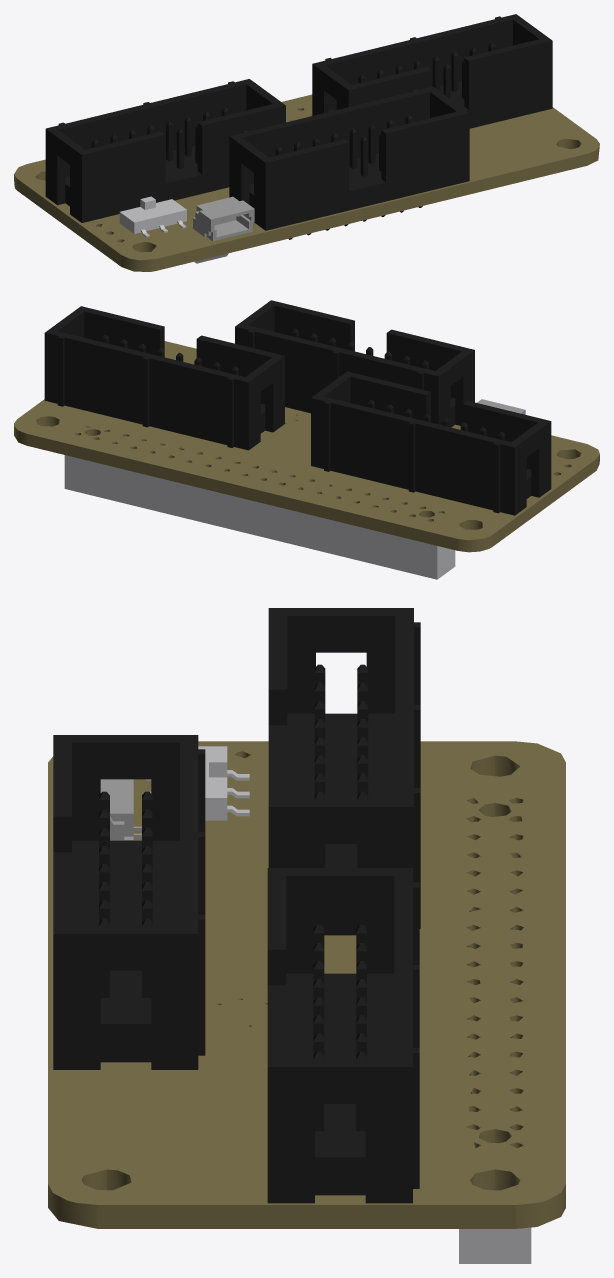
Rendered from ada-6358.glb.
3 renders of one model, top to bottom at view 1: azimuth 30°, elevation 25°; view 2: azimuth 150°, elevation 25°; view 3: azimuth 270°, elevation 25°, orthographic. The views are drawn at different scales.
Visible parts, largest first — view 1: 0_0_0_0, 0.16666666666666666_0.16666666666666666_0.08333333333333333_, 0.3333333333333333_0.3333333333333333_0.3333333333333333_0, 0.5833333333333334_0.5833333333333334_0.5833333333333334_0.8; view 2: 0_0_0_0, 0.16666666666666666_0.16666666666666666_0.08333333333333333_, 0.5833333333333334_0.5833333333333334_0.5833333333333334_0.8; view 3: 0_0_0_0, 0.16666666666666666_0.16666666666666666_0.08333333333333333_, 0.5833333333333334_0.5833333333333334_0.5833333333333334_0.8, 0.3333333333333333_0.3333333333333333_0.3333333333333333_0.
Part boxes in pixels (x1,y1,x2,y2): 0_0_0_0: (45, 14, 552, 239); 0.16666666666666666_0.16666666666666666_0.08333333333333333_: (14, 94, 599, 271); 0.3333333333333333_0.3333333333333333_0.3333333333333333_0: (193, 196, 254, 241); 0.5833333333333334_0.5833333333333334_0.5833333333333334_0.8: (119, 196, 228, 263); 0_0_0_0: (44, 300, 551, 515); 0.16666666666666666_0.16666666666666666_0.08333333333333333_: (14, 341, 599, 552); 0.5833333333333334_0.5833333333333334_0.5833333333333334_0.8: (64, 455, 455, 579); 0_0_0_0: (53, 608, 420, 1203); 0.16666666666666666_0.16666666666666666_0.08333333333333333_: (48, 741, 565, 1228); 0.5833333333333334_0.5833333333333334_0.5833333333333334_0.8: (146, 746, 531, 1263); 0.3333333333333333_0.3333333333333333_0.3333333333333333_0: (100, 779, 141, 840).
Bounding box in the file's own units: 6.5 × 1.6 × 3.07.
